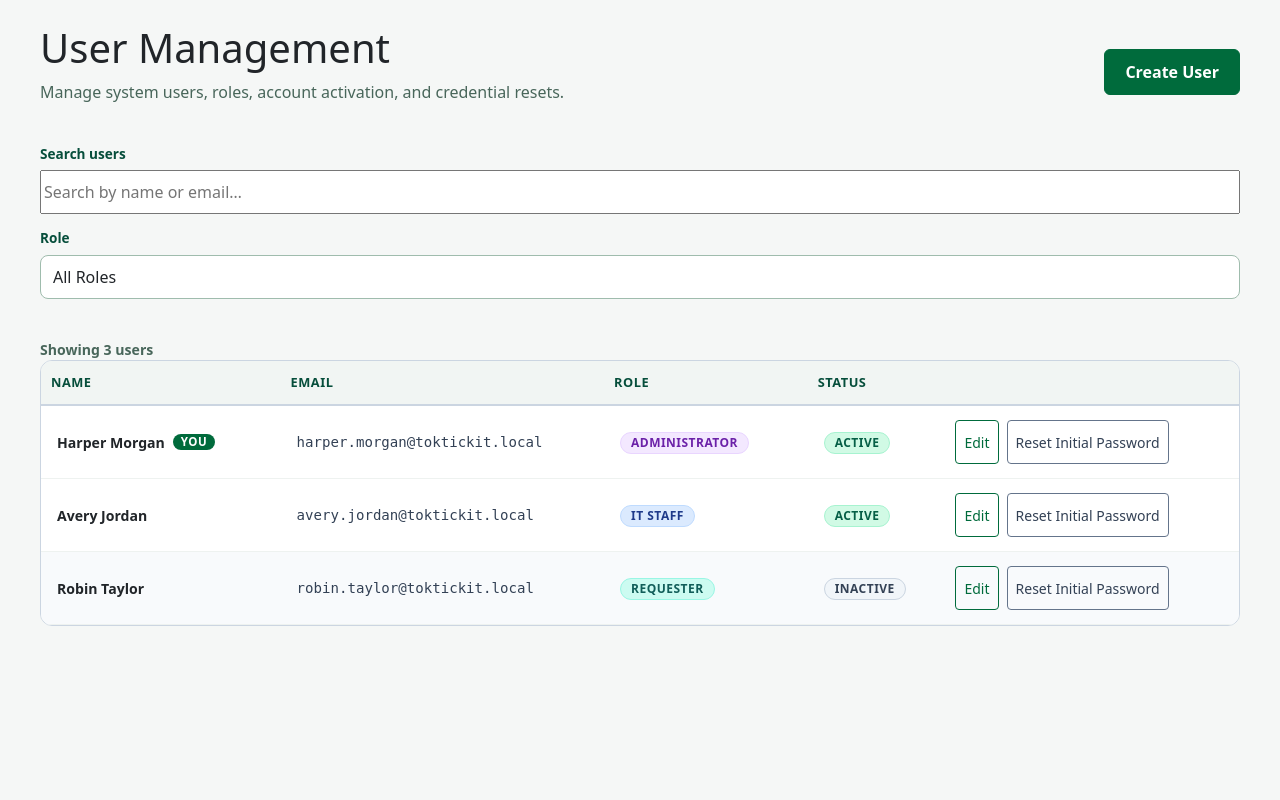
Test case: UI-USER-01: Administrator User Management › edits another user and saves successfully with expectedUpdatedAt
Expected: the text "Avery Jordan" is shown, left=57, top=504, right=147, bottom=526
Click the button with aria-label "Edit Avery Jordan" at [977, 515], box left=956, top=493, right=999, bottom=537
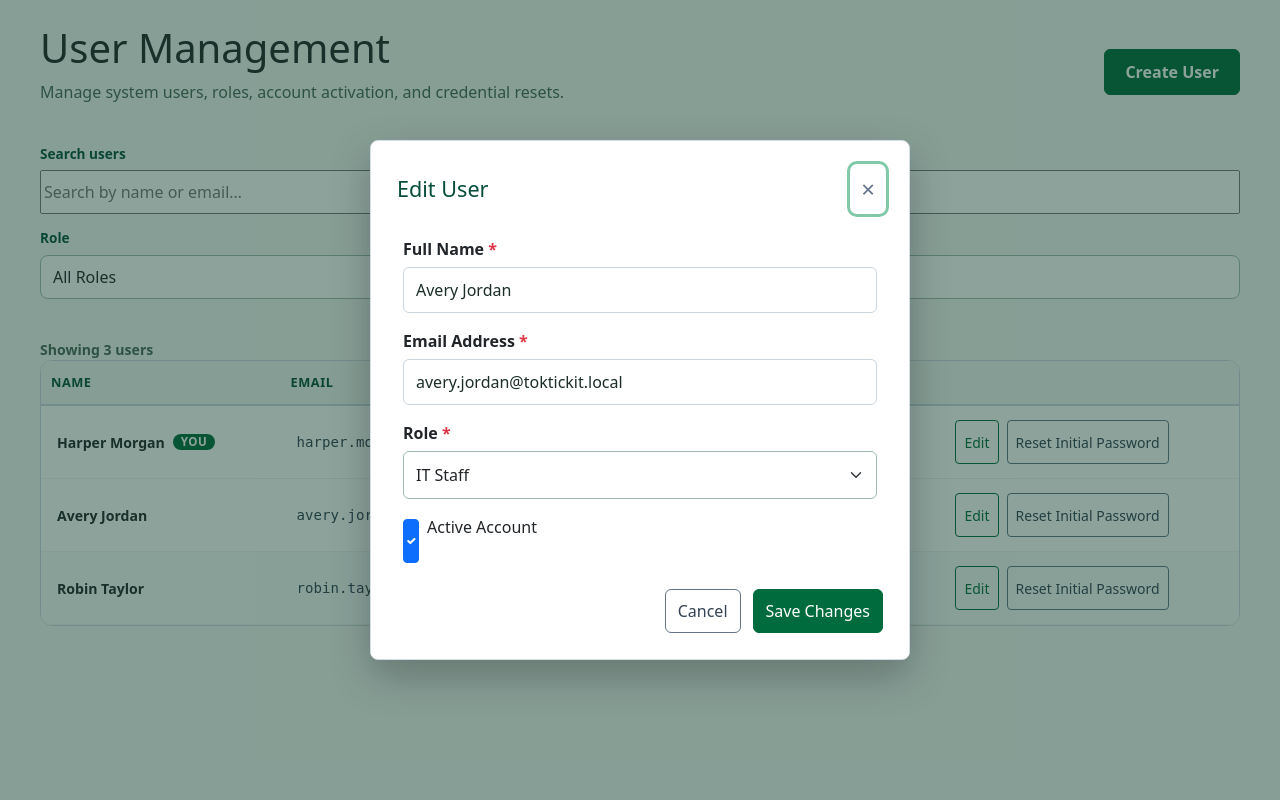
Expected: the dropdown labelled "Role *" is enabled
Expected: the checkbox labelled "Active Account" is enabled, left=403, top=519, right=419, bottom=563
Change role to ADMINISTRATOR
Select "Administrator" in the dropdown labelled "Role *" at [640, 475], box left=403, top=451, right=877, bottom=499
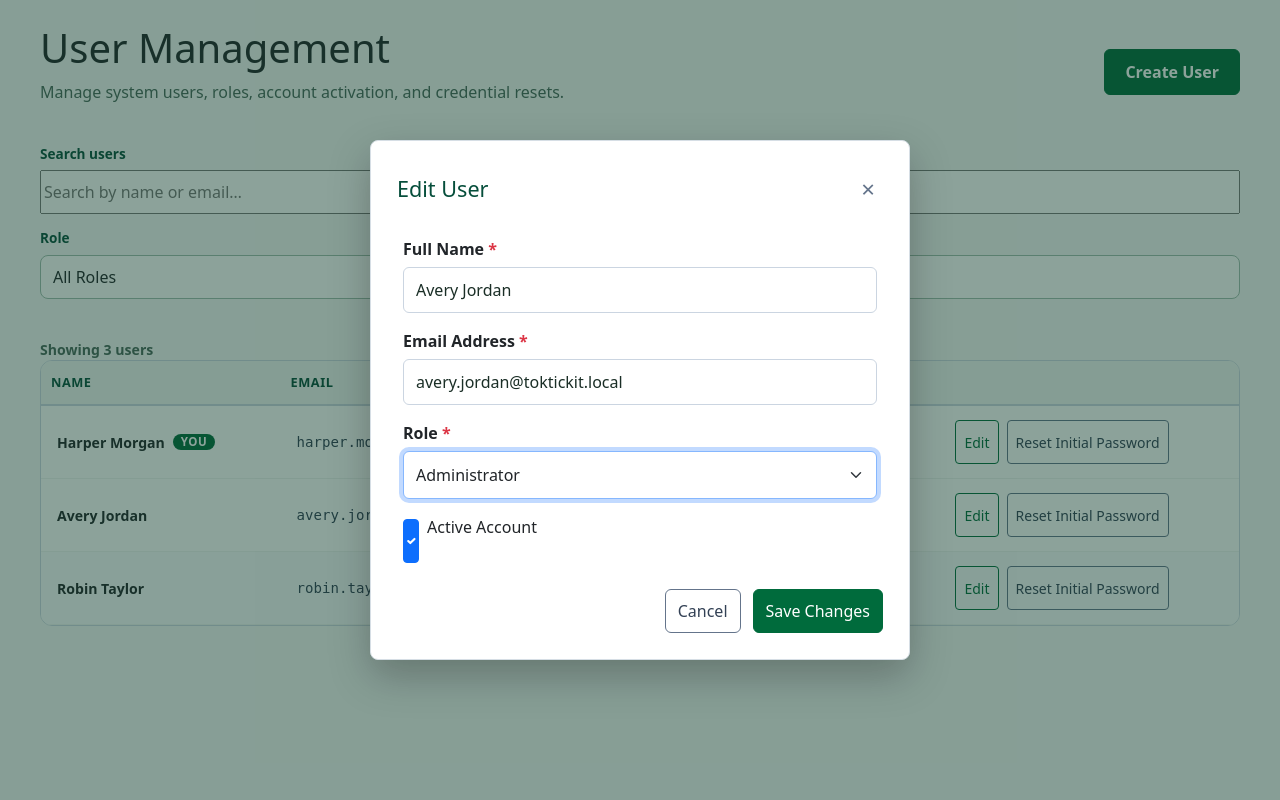
Click the button "Save Changes" at [818, 611], box left=752, top=589, right=883, bottom=633
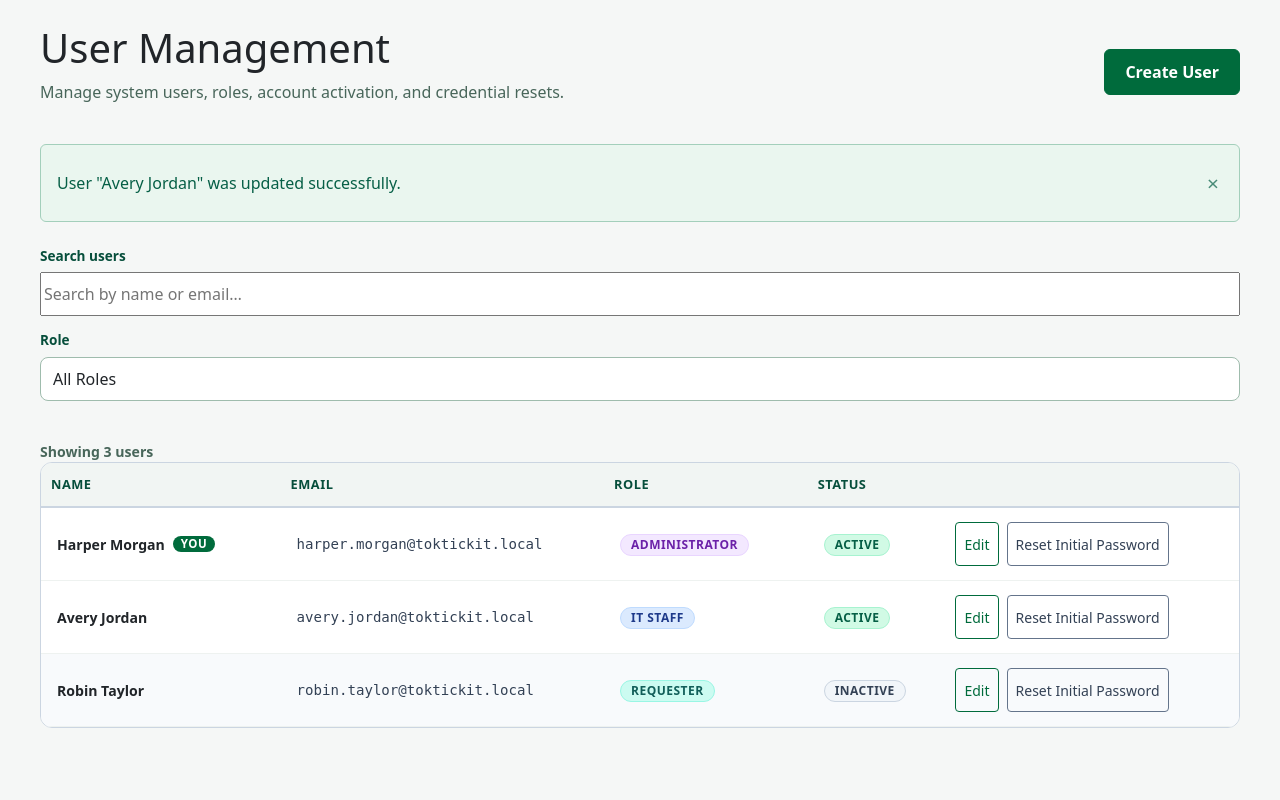
Expected: the text "User \"Avery Jordan\" was updated successfully." is shown, left=57, top=171, right=401, bottom=195
